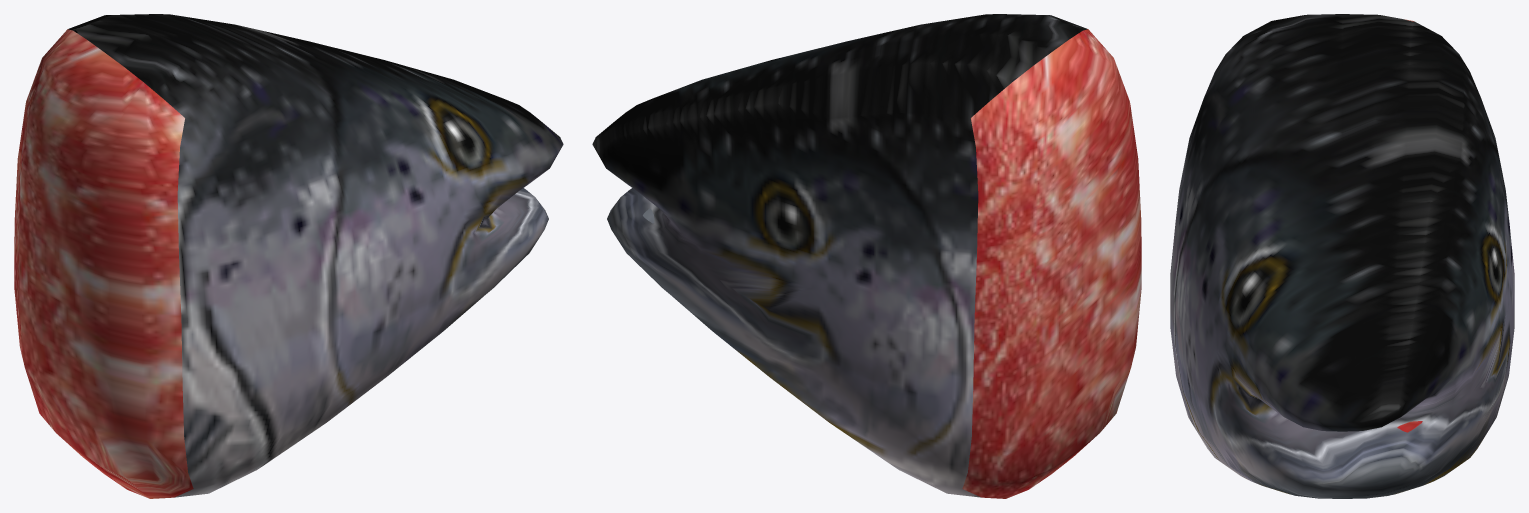
The model's file is Head.fbx.
3 views of the same model, side by side, from view 1: azimuth 30°, elevation 25°; view 2: azimuth 150°, elevation 25°; view 3: azimuth 270°, elevation 25° (orthographic).
Visible parts, largest first — view 1: fisk; view 2: fisk; view 3: fisk.
Part boxes in pixels (left/top/right/bottom): fisk: left=14, top=14, right=563, bottom=498; fisk: left=592, top=14, right=1141, bottom=498; fisk: left=1170, top=14, right=1514, bottom=498.
Size of the model in its own units: 160 by 135 by 96.22.
